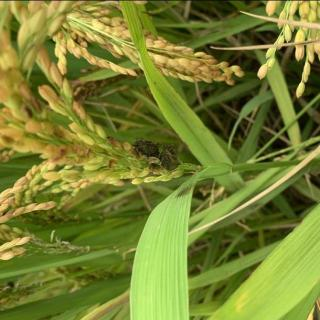Gosong-Palsu: (130, 138, 179, 172)
